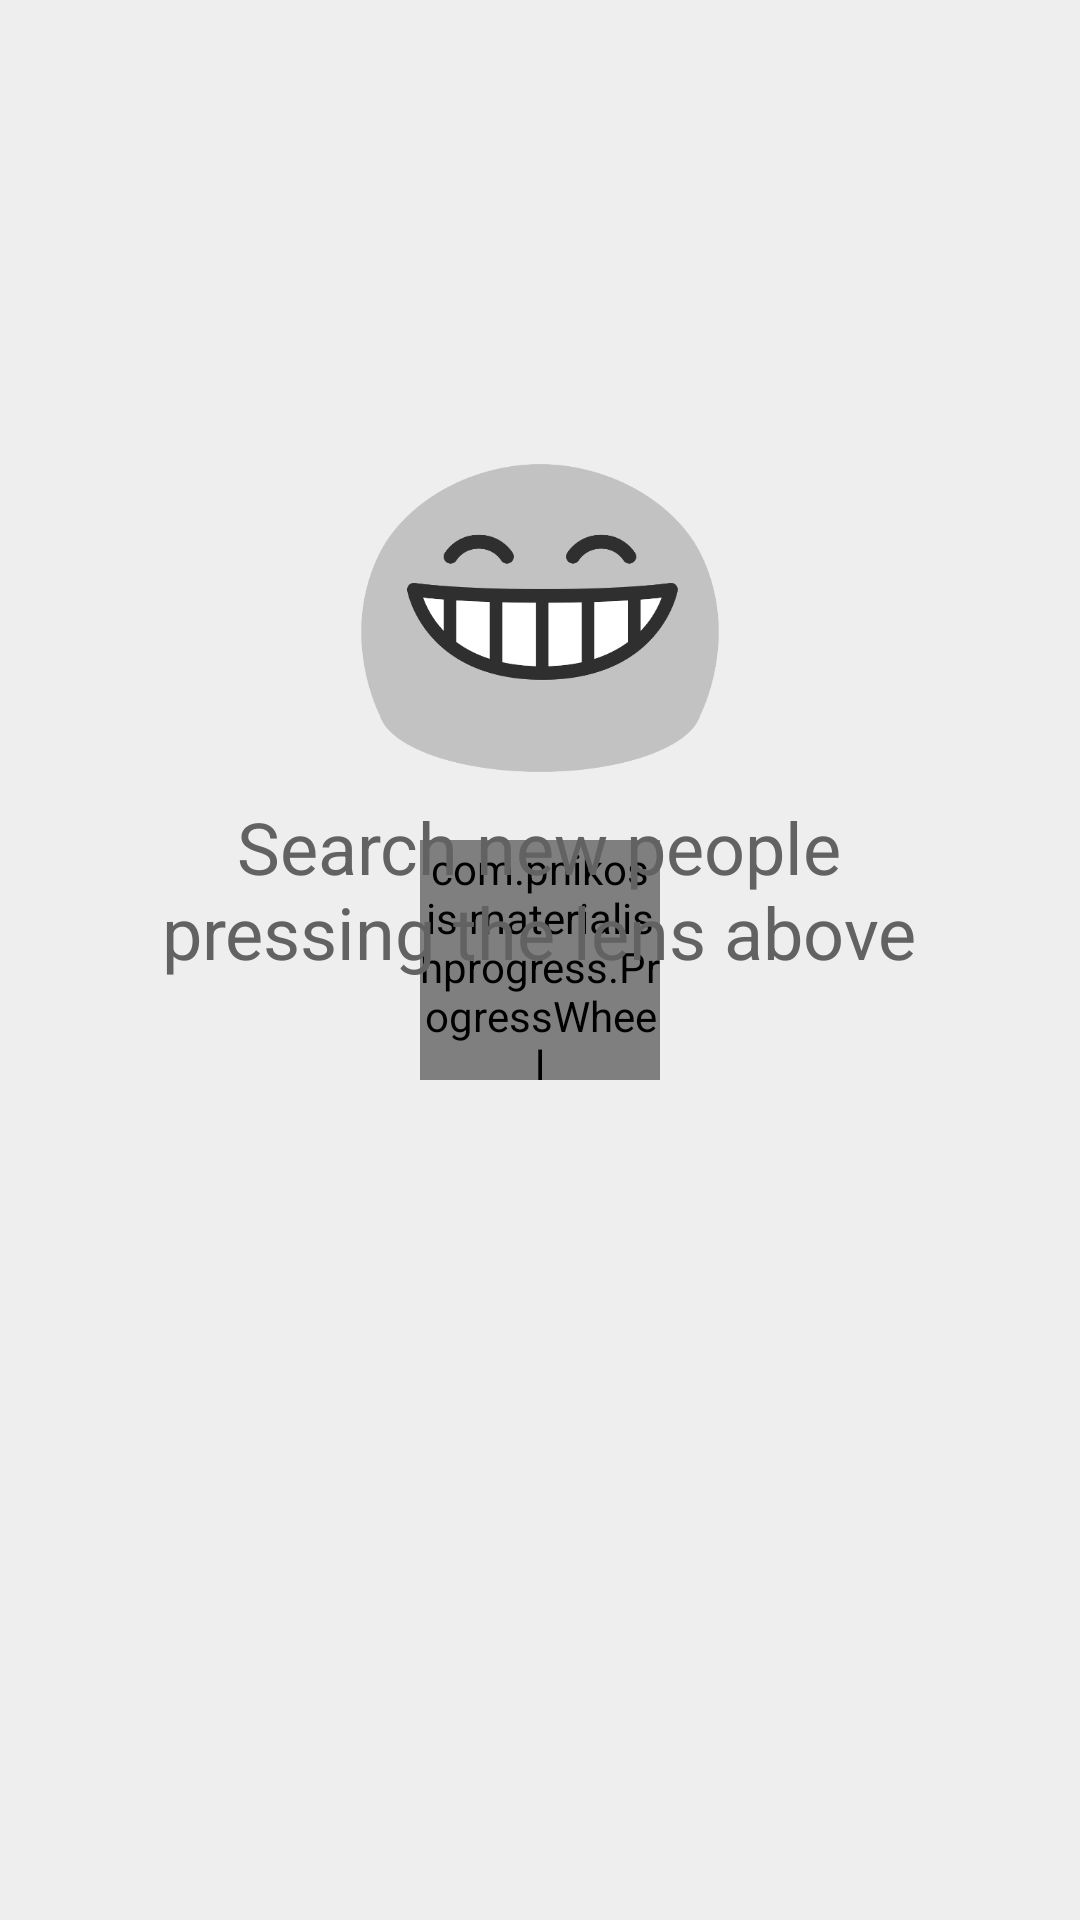

Point at icon controls on the screen. Image size 1080px×1920px, points as [x,y].
smiling: [540,618]
